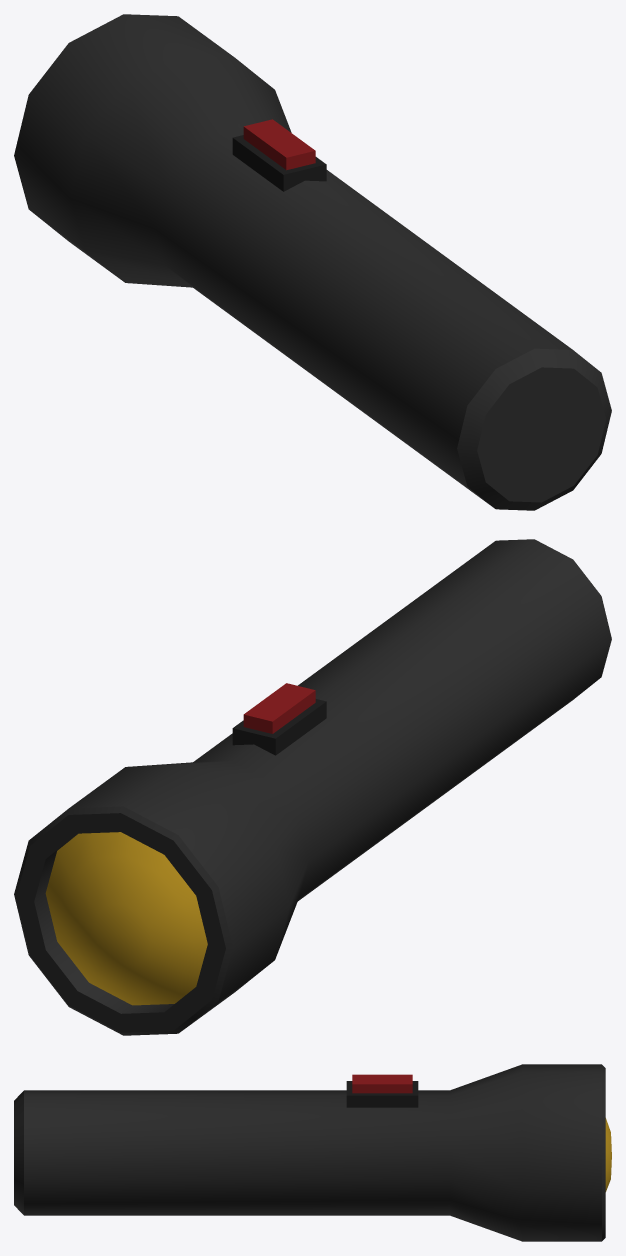
File: Flashlight.fbx
3 views of the same model, one above another, from view 1: azimuth 30°, elevation 25°; view 2: azimuth 150°, elevation 25°; view 3: azimuth 270°, elevation 25° (orthographic). The views are drawn at different scales.
Parts seen in each view (by area): view 1: lanterna; view 2: lanterna; view 3: lanterna.
Part boxes in pixels (x1,y1,x2,y2): lanterna: (14,14,611,510); lanterna: (14,539,611,1035); lanterna: (14,1064,611,1241).
Size of the model in its own units: 6.2 by 6.2 by 20.83.
